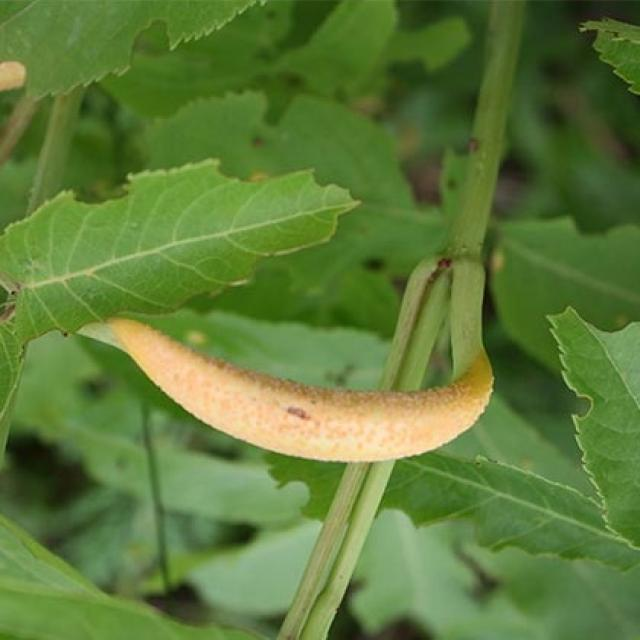Elderberry_rust: (102, 313, 495, 464)
